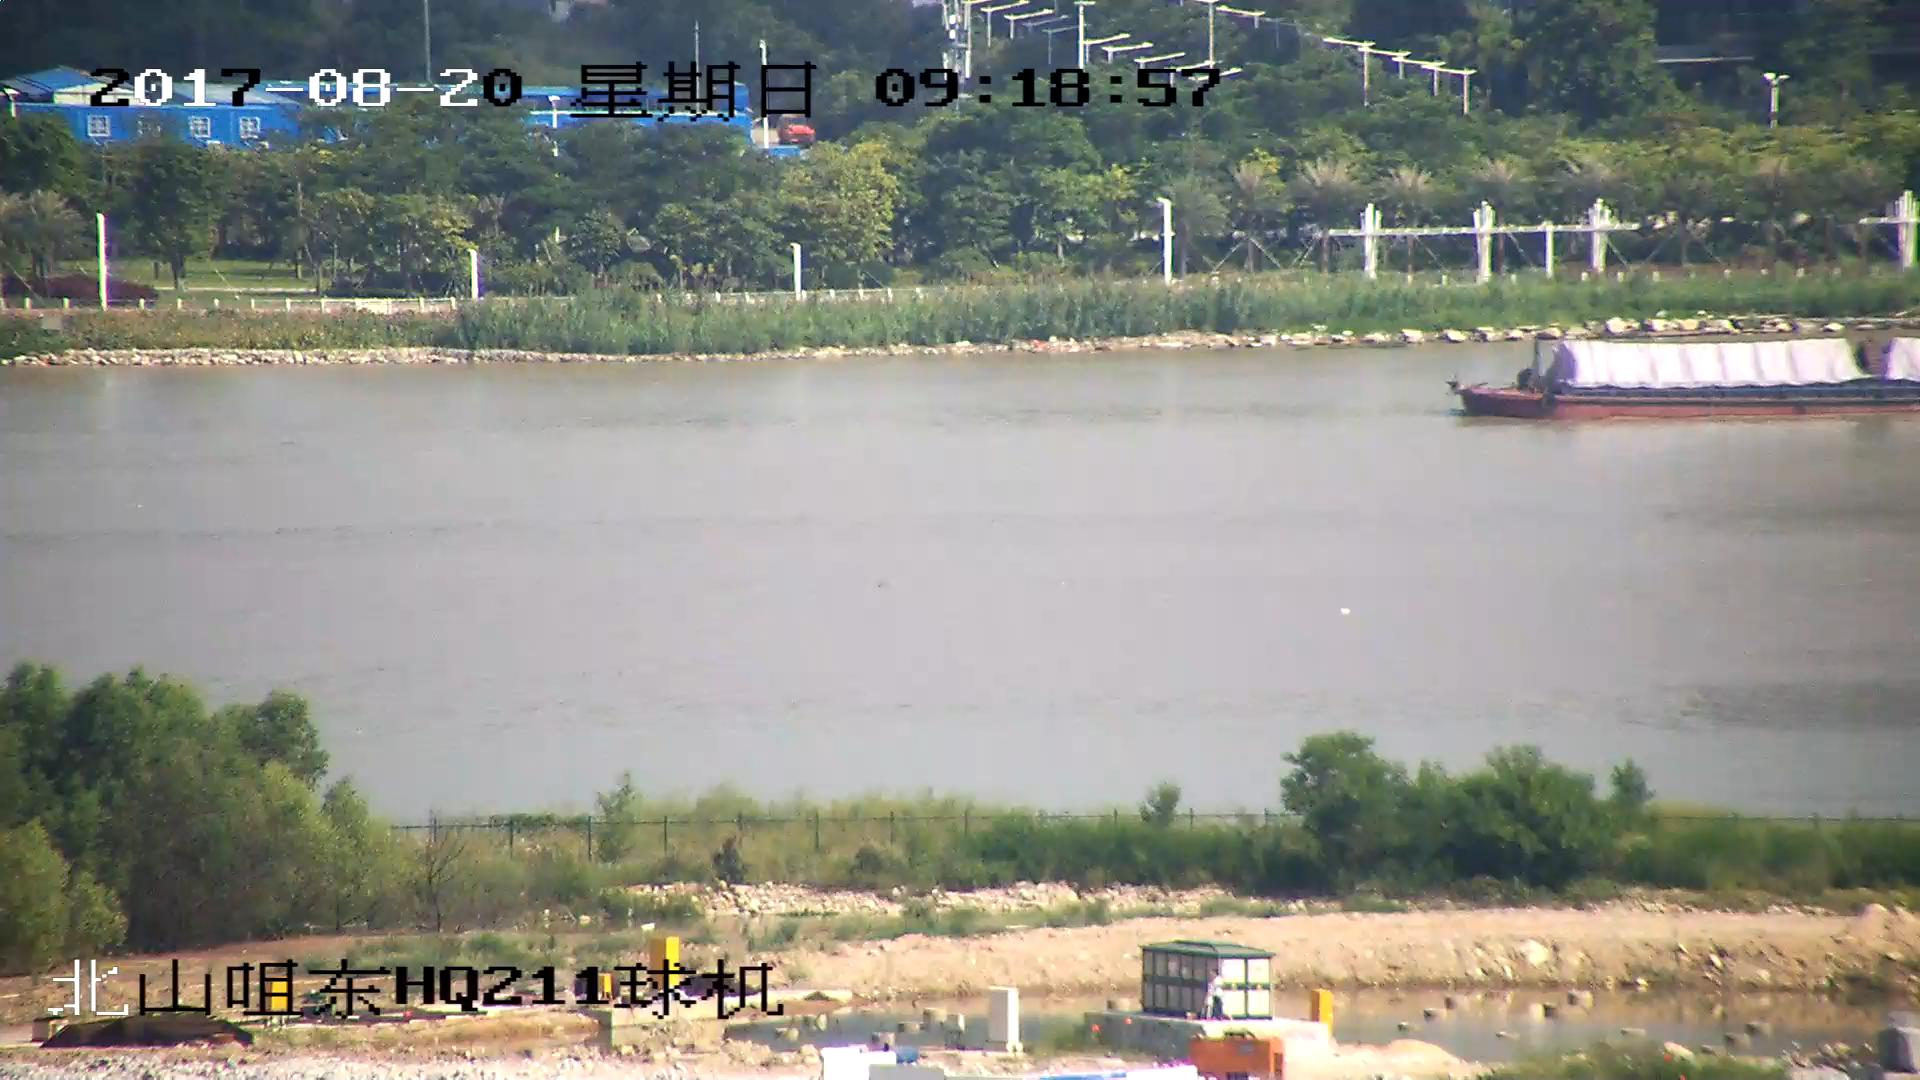general cargo ship: (1455, 336, 1920, 418)
